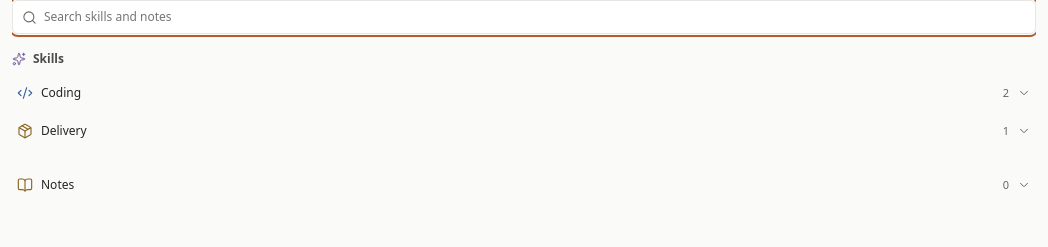
Scenario: compact task context bundles › searches names, descriptions, metadata and tags while revealing matching collapsed bundles
This screenshot has width=1048, height=247.
Expected: the button with aria-label "Coding skills" is shown, [12,75,1036,111]
Type "coding cmake" into the field labelled "Search skills and notes".
click(535, 17); type("coding cmake")  # box [44,8,1026,26]
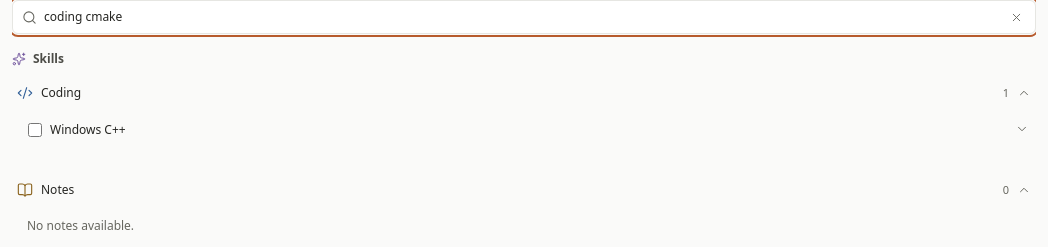
Now the checkbox labelled "Windows C++" is shown, box [28,123,42,137]
Replace the text in the field named "Search skills and notes" with "portable" at (522,17), box [44,8,1001,26]
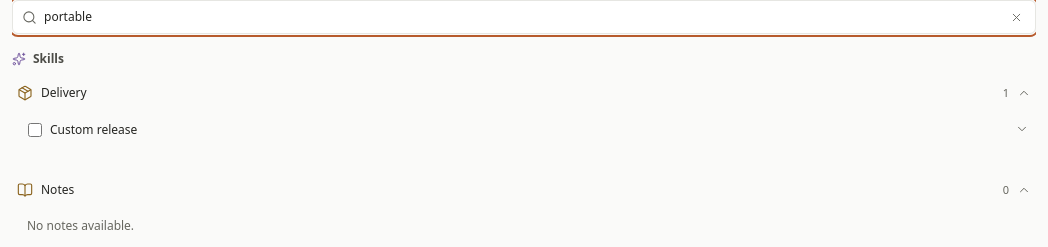
Expected: the checkbox labelled "Custom release" is shown, [28,123,42,137]
Now the text "Windows C++" is gone
